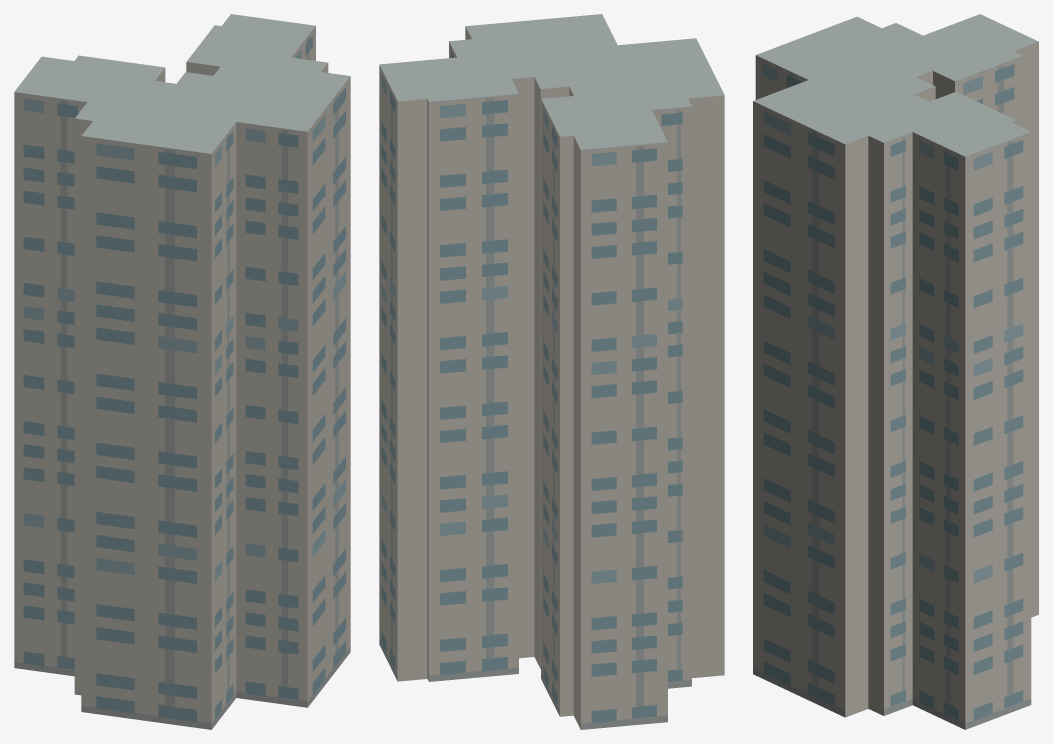
File: residential-b4040a2c-c9e2-4209-9111-a057ce62ac28.glb
3 views of the same model, side by side, from view 1: azimuth 30°, elevation 25°; view 2: azimuth 150°, elevation 25°; view 3: azimuth 270°, elevation 25° (orthographic).
Parts seen in each view (by area): view 1: residential-b4040a2c-c9e2-4209-9111-a057ce62ac28.tmp; view 2: residential-b4040a2c-c9e2-4209-9111-a057ce62ac28.tmp; view 3: residential-b4040a2c-c9e2-4209-9111-a057ce62ac28.tmp.
Part boxes in pixels (<box>): residential-b4040a2c-c9e2-4209-9111-a057ce62ac28.tmp: <box>14,14,350,729</box>; residential-b4040a2c-c9e2-4209-9111-a057ce62ac28.tmp: <box>379,14,724,729</box>; residential-b4040a2c-c9e2-4209-9111-a057ce62ac28.tmp: <box>753,14,1038,729</box>.
Bounding box in the file's own units: 37.95 × 71 × 32.09.
